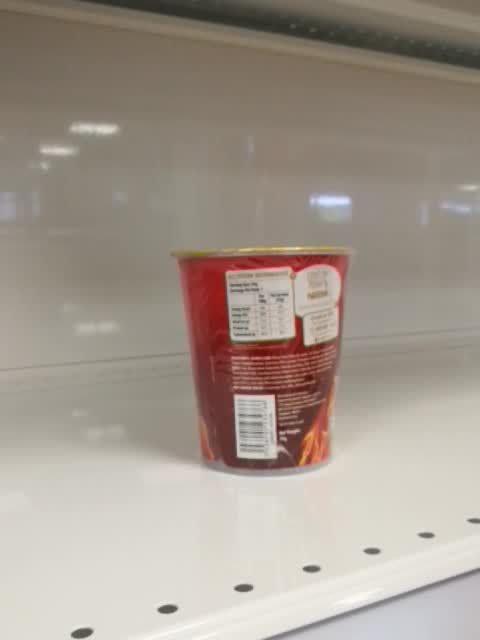maggi: (169, 246, 356, 477)
